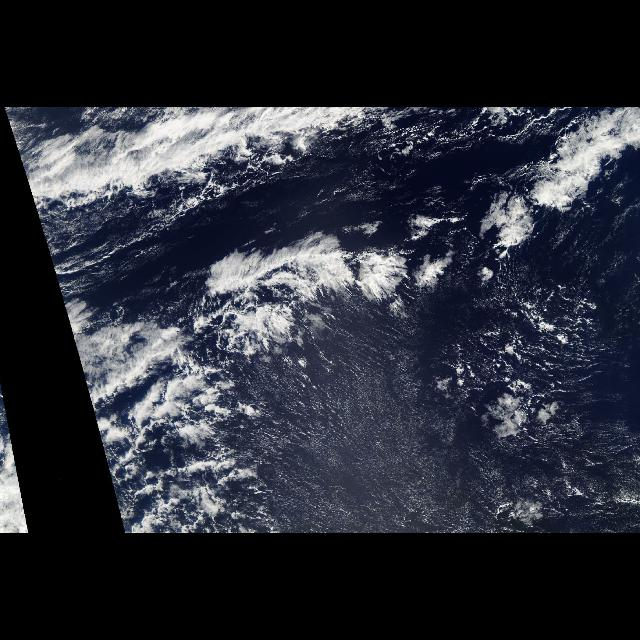Fish: (15, 110, 640, 360)
Gravel: (492, 217, 630, 529)
Sugar: (230, 334, 506, 534)
